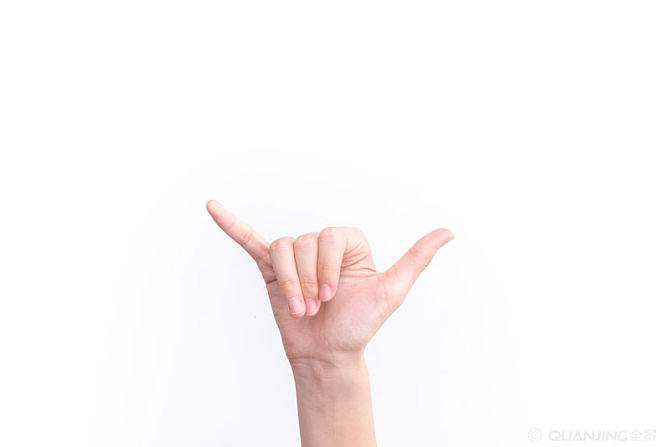clockwise: (202, 197, 458, 367)
